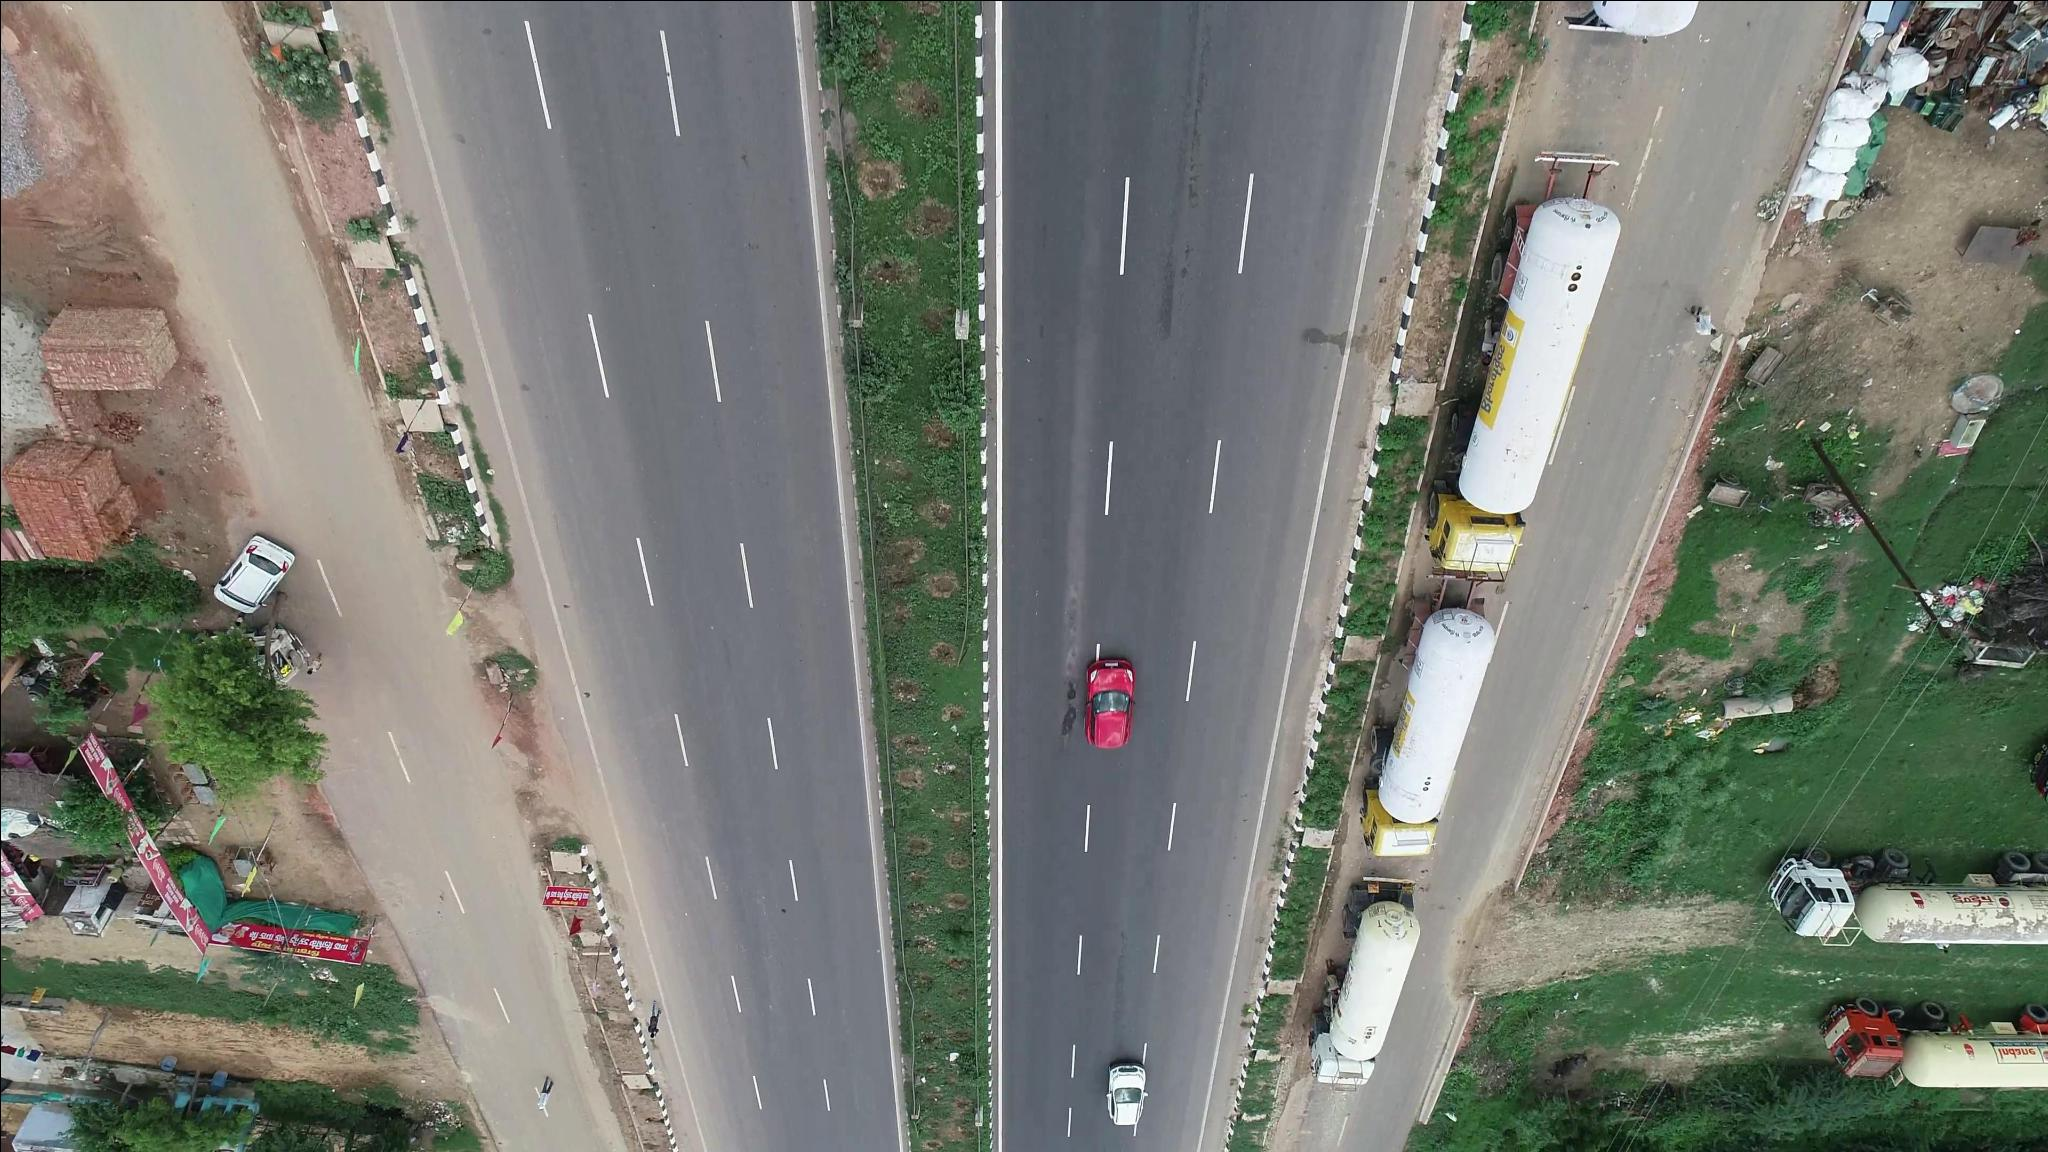Potholes: (1054, 605, 1084, 741)
Ravelling: (1155, 105, 1204, 342)
